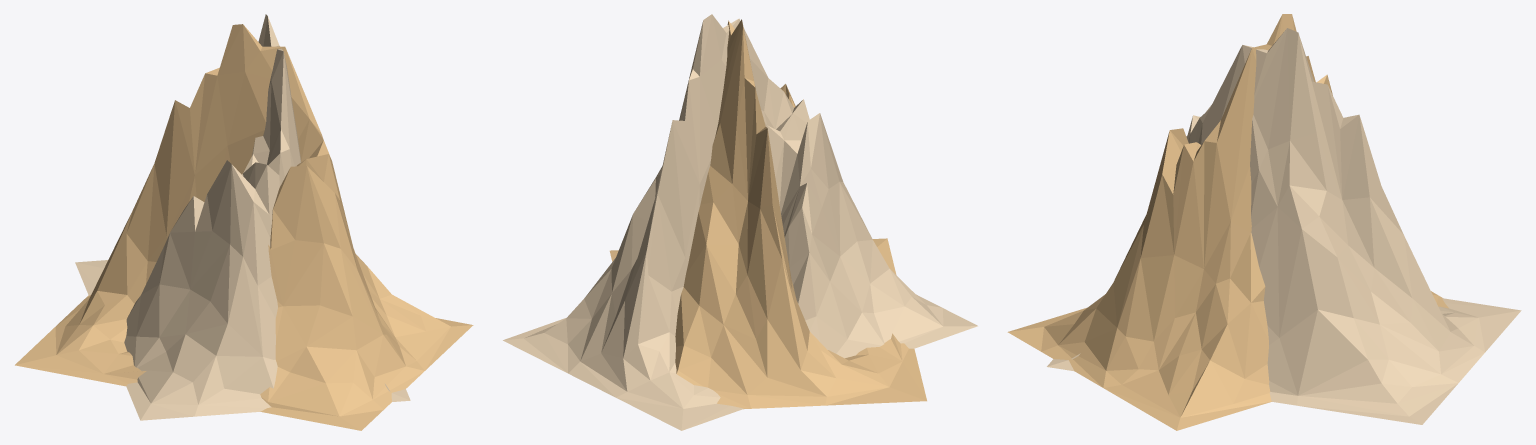
Rendered from mount1_00008.fbx.
3 renders of one model, left to right at view 1: azimuth 30°, elevation 25°; view 2: azimuth 150°, elevation 25°; view 3: azimuth 270°, elevation 25°, orthographic. The views are drawn at different scales.
Visible parts, largest first — view 1: mount1; view 2: mount1; view 3: mount1.
Boxes of the visible parts, bbox=[...] form: mount1: bbox=[15, 14, 473, 430]; mount1: bbox=[503, 14, 977, 430]; mount1: bbox=[1007, 14, 1521, 430].
Bounding box in the file's own units: 4283 × 3271 × 4700.
